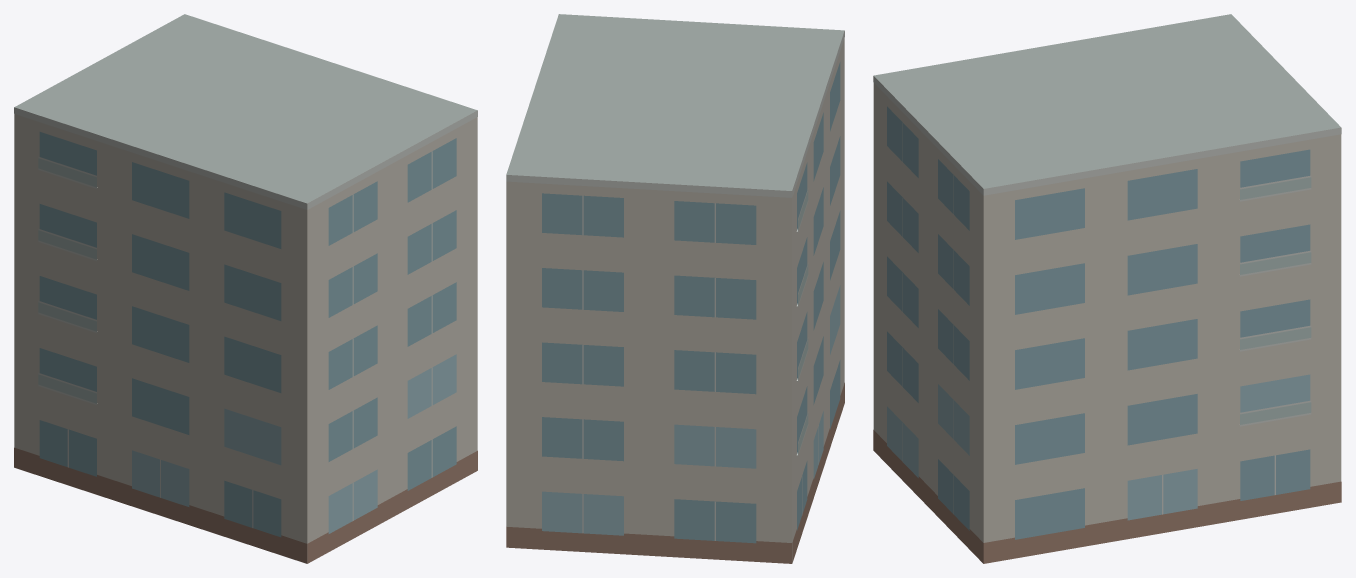
File: survey-upis-32751101.glb
3 views of the same model, side by side, from view 1: azimuth 30°, elevation 25°; view 2: azimuth 150°, elevation 25°; view 3: azimuth 270°, elevation 25° (orthographic). The views are drawn at different scales.
Visible parts, largest first — view 1: survey-upis-32751101.tmp; view 2: survey-upis-32751101.tmp; view 3: survey-upis-32751101.tmp.
Part boxes in pixels (<box>): survey-upis-32751101.tmp: <box>14,14,477,563</box>; survey-upis-32751101.tmp: <box>506,14,844,563</box>; survey-upis-32751101.tmp: <box>873,14,1341,563</box>.
Bounding box in the file's own units: 13.52 × 13.5 × 15.28.
